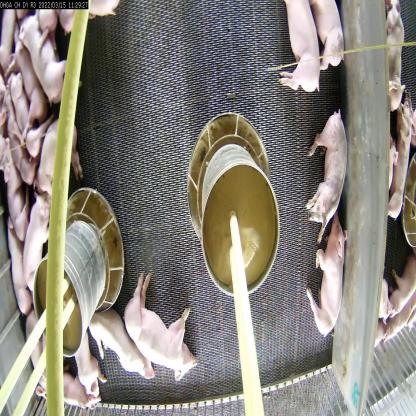Pig: (125, 274, 196, 376), (306, 107, 348, 237), (307, 215, 347, 338), (25, 124, 85, 204), (90, 310, 153, 386), (277, 0, 323, 104), (19, 14, 68, 101), (12, 192, 54, 288), (11, 44, 48, 130), (311, 0, 347, 78), (26, 312, 53, 411), (76, 333, 105, 411), (7, 78, 36, 151), (2, 150, 26, 238)
